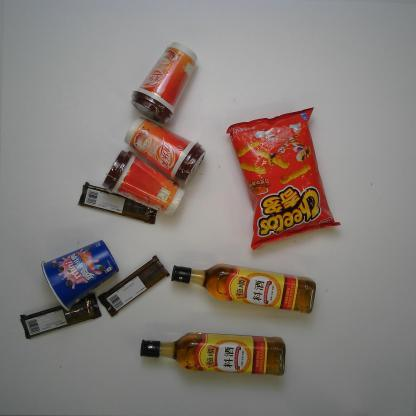Chocolate: (97, 252, 171, 322), (18, 290, 104, 342), (74, 181, 157, 229)
Dessert: (40, 238, 121, 314)
Instant Drink: (121, 117, 209, 189), (129, 39, 200, 125), (102, 148, 186, 219)
Puffed Food: (225, 106, 342, 253)
Seasoner: (167, 262, 319, 316), (139, 333, 289, 378)
